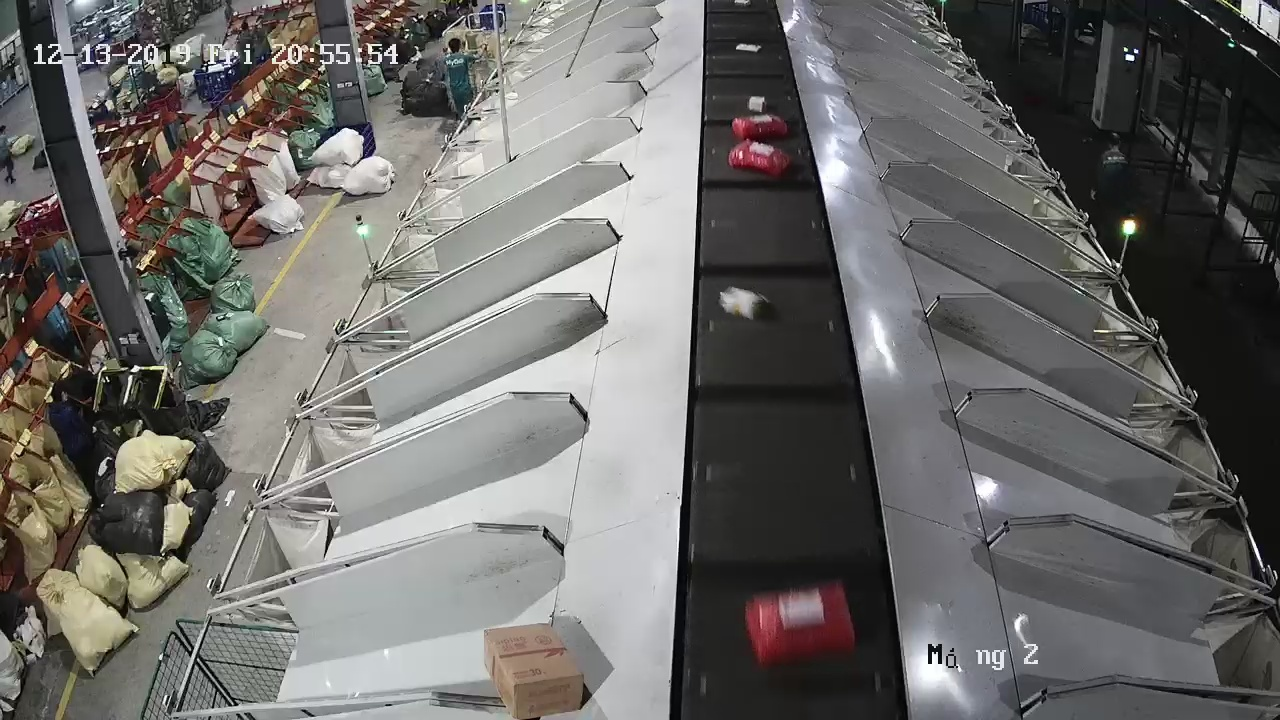parcel: (717, 285, 771, 321)
